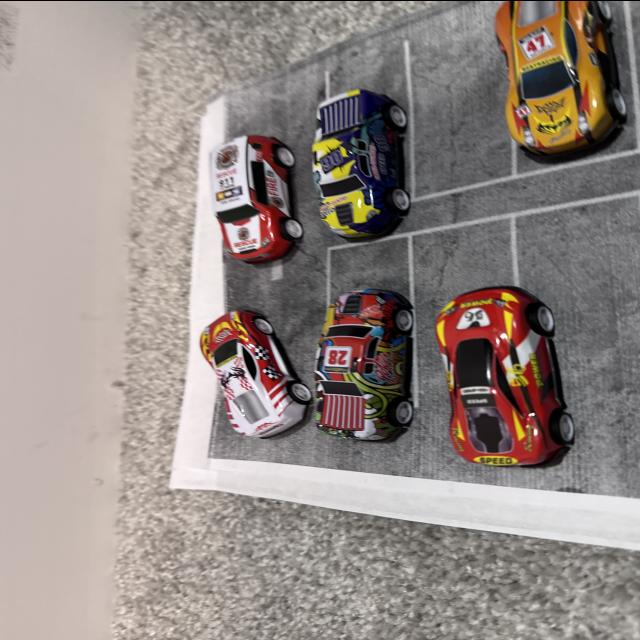Car: (430, 0, 610, 181), (430, 286, 570, 516), (166, 310, 302, 490), (312, 67, 441, 243), (203, 102, 313, 260), (307, 283, 390, 465)
